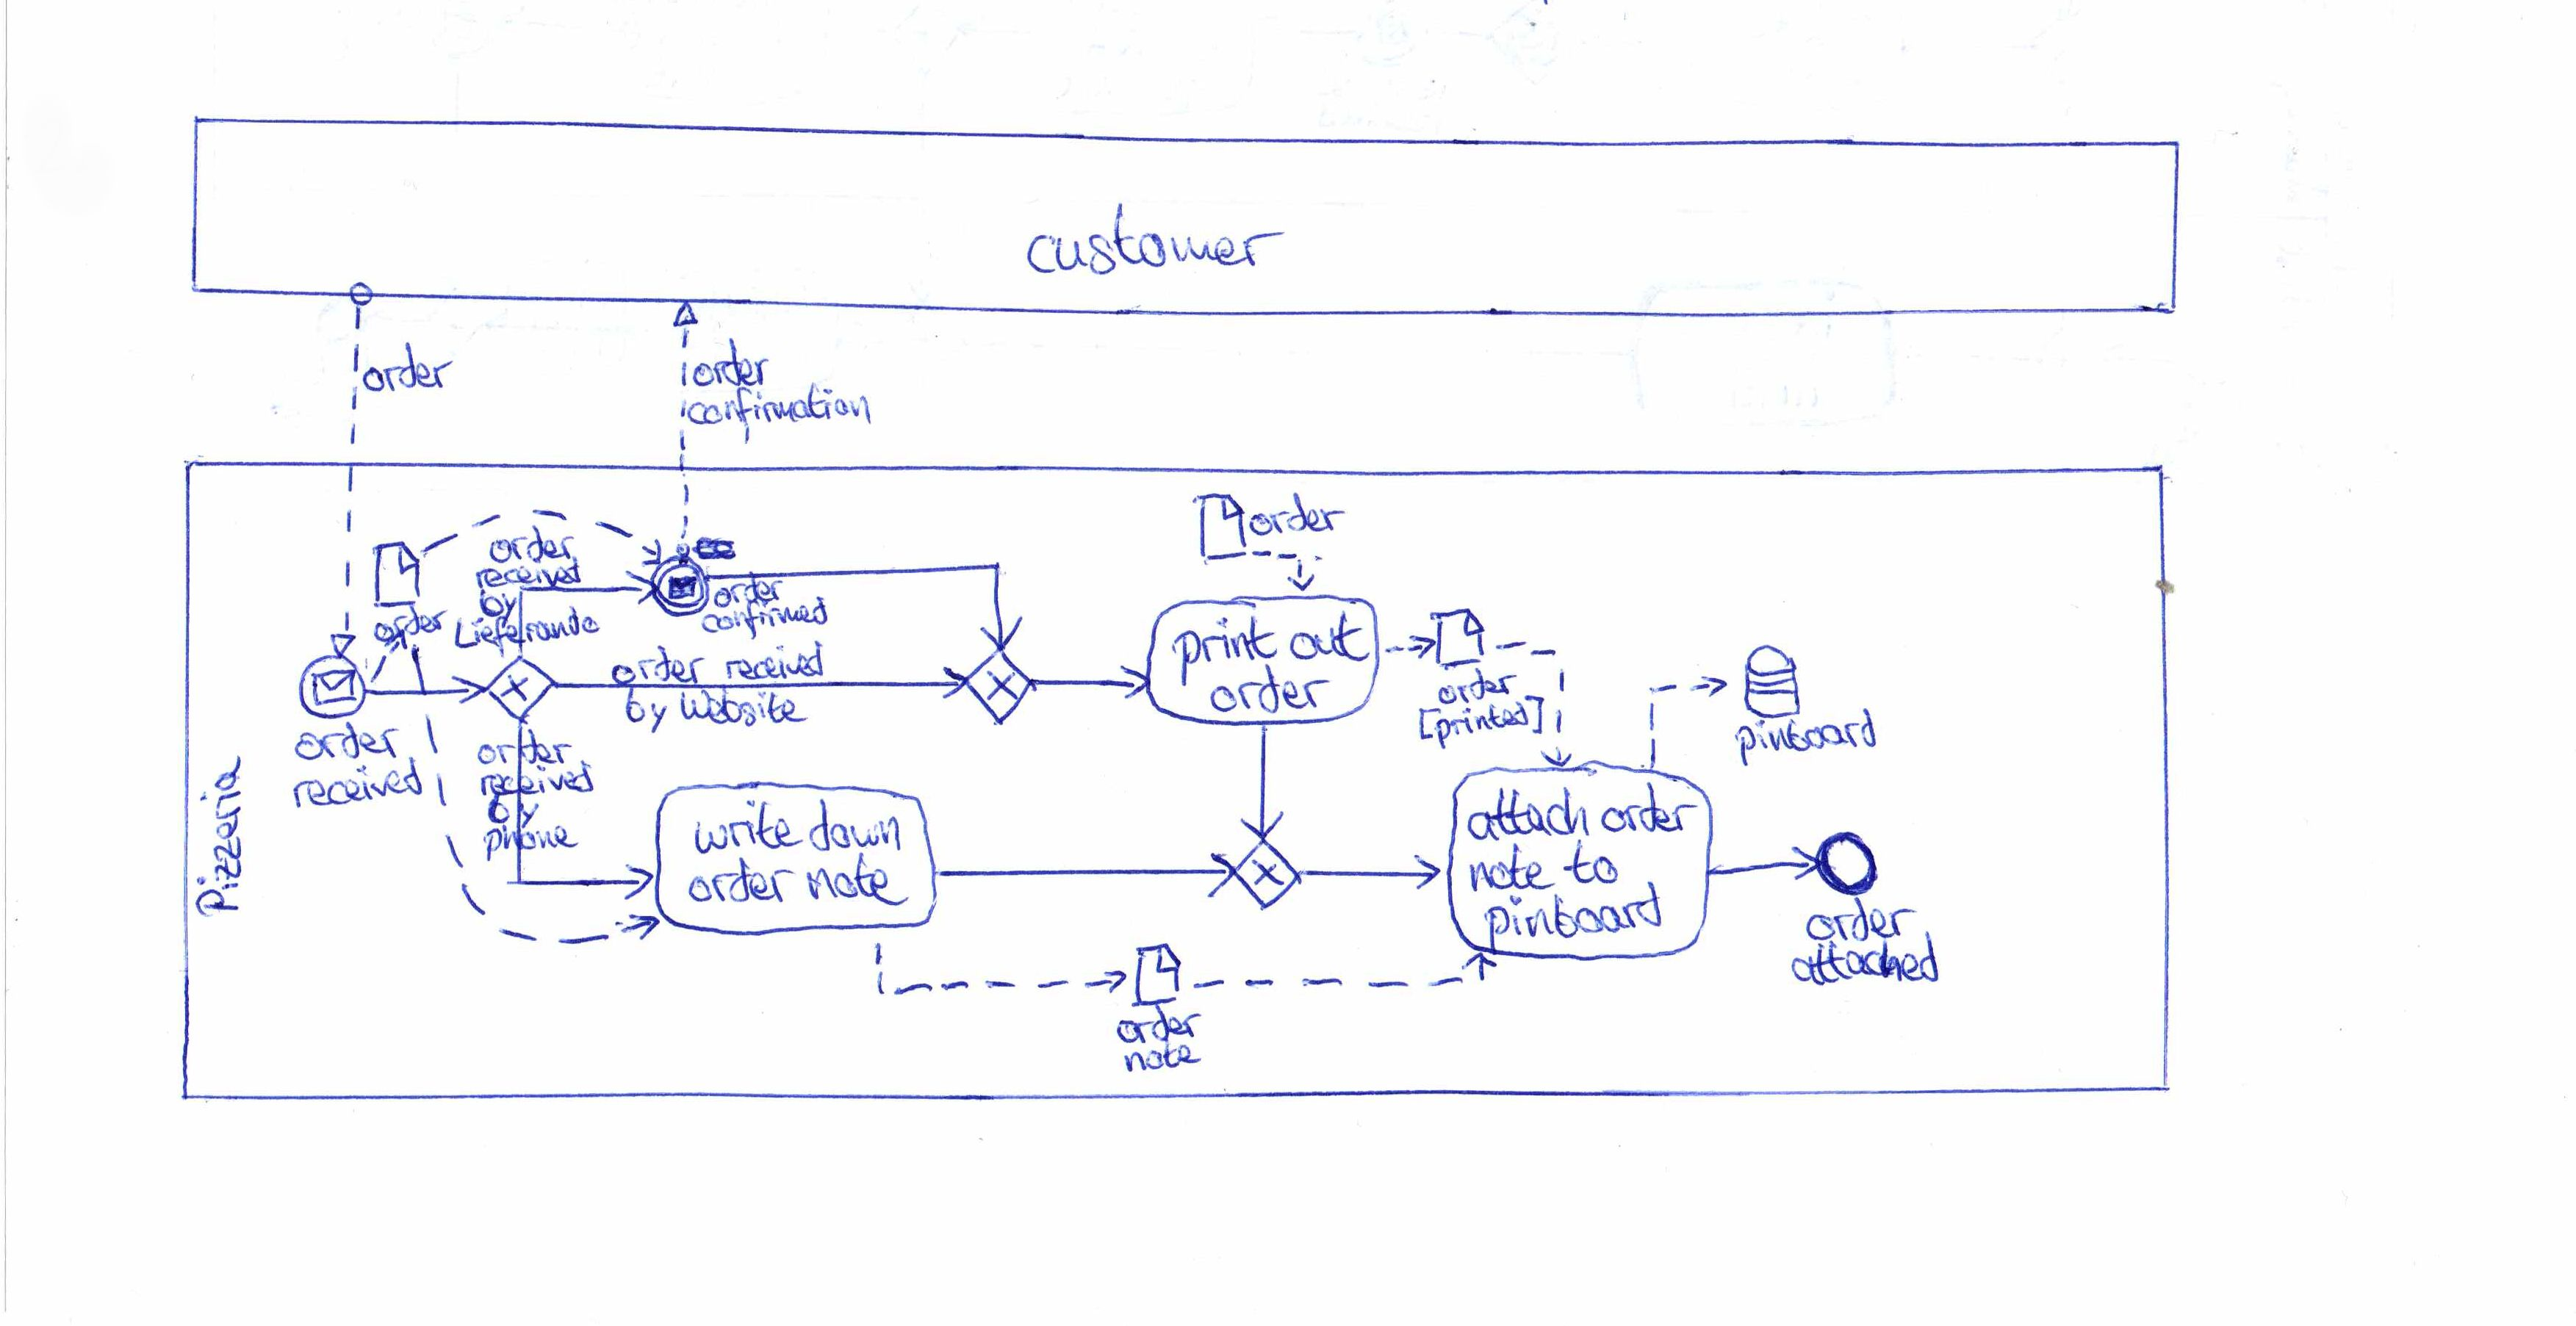Lieferando: (448, 611, 600, 653)
Pizzeria: (195, 754, 252, 922)
Website: (678, 688, 807, 729)
[printed]: (1414, 695, 1549, 748)
attach: (1465, 781, 1593, 851)
attached: (1788, 940, 1942, 989)
by: (622, 688, 675, 736), (485, 793, 543, 827), (474, 587, 523, 622)
confirmation: (685, 386, 876, 431)
confirmed: (699, 597, 832, 639)
customer: (1023, 200, 1287, 279)
down: (805, 797, 908, 856)
note: (800, 854, 913, 905), (1465, 841, 1556, 896), (1120, 1042, 1201, 1074)
order: (687, 856, 807, 908), (1209, 663, 1329, 714), (1598, 780, 1696, 837), (291, 719, 408, 766), (1245, 489, 1346, 541), (1803, 900, 1918, 944), (360, 342, 450, 397), (687, 338, 771, 392), (611, 644, 709, 687), (487, 523, 578, 567), (1115, 1003, 1204, 1047), (1434, 666, 1522, 709), (477, 729, 570, 768), (372, 605, 448, 646), (714, 572, 785, 609)
out: (1287, 607, 1372, 670)
phone: (482, 819, 573, 861)
pinboard: (1485, 883, 1669, 945), (1732, 705, 1881, 768)
print: (1165, 614, 1277, 683)
received: (289, 756, 425, 812), (479, 761, 597, 800), (722, 643, 830, 682), (475, 556, 585, 592)
to: (1559, 839, 1622, 890)
write: (688, 797, 803, 859)
